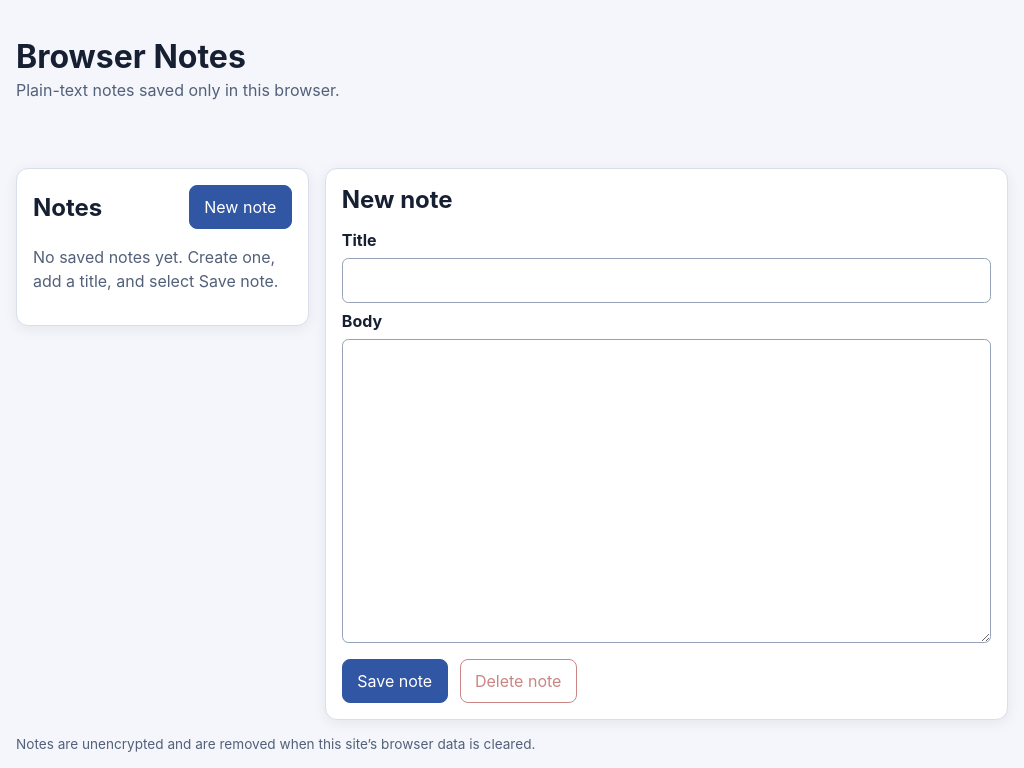
Test: Browser Notes application › rejects a blank title, focuses it, and saves an empty body only after commit
Click the button "Save note" at (395, 681), box [342,659,448,703]
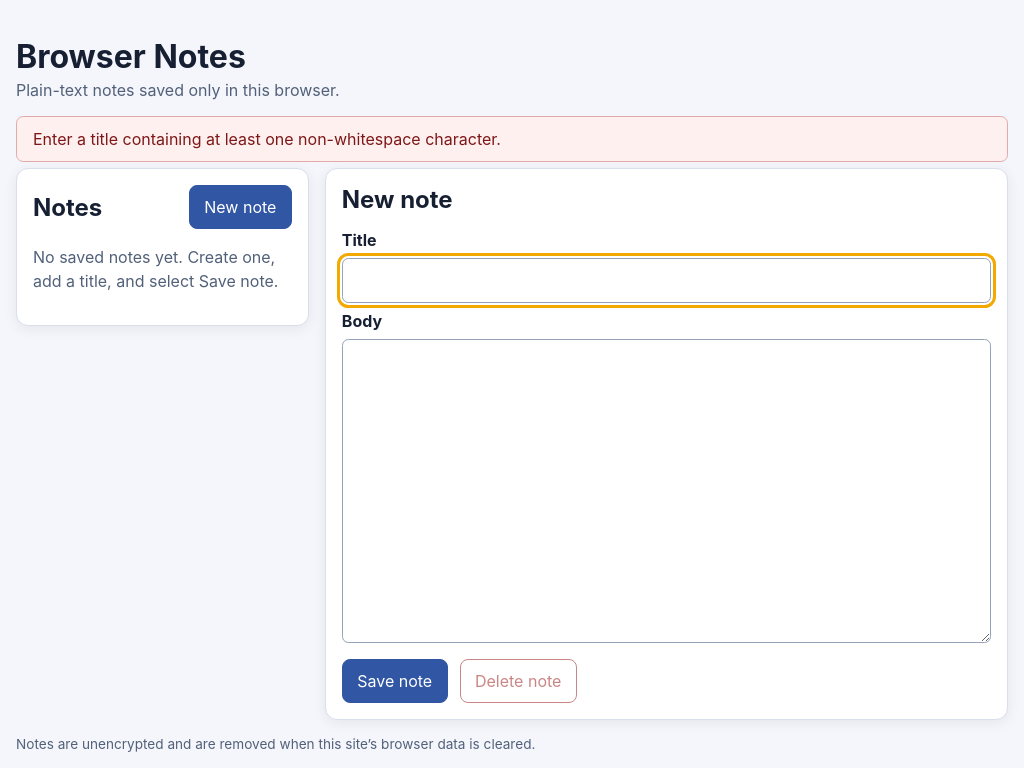
Expected: the message shows "title", [33,129,501,149]
Type "  Literal <script>alert(1)</script>  " into the field labelled "Title" at (666, 281), box [342,258,991,303]
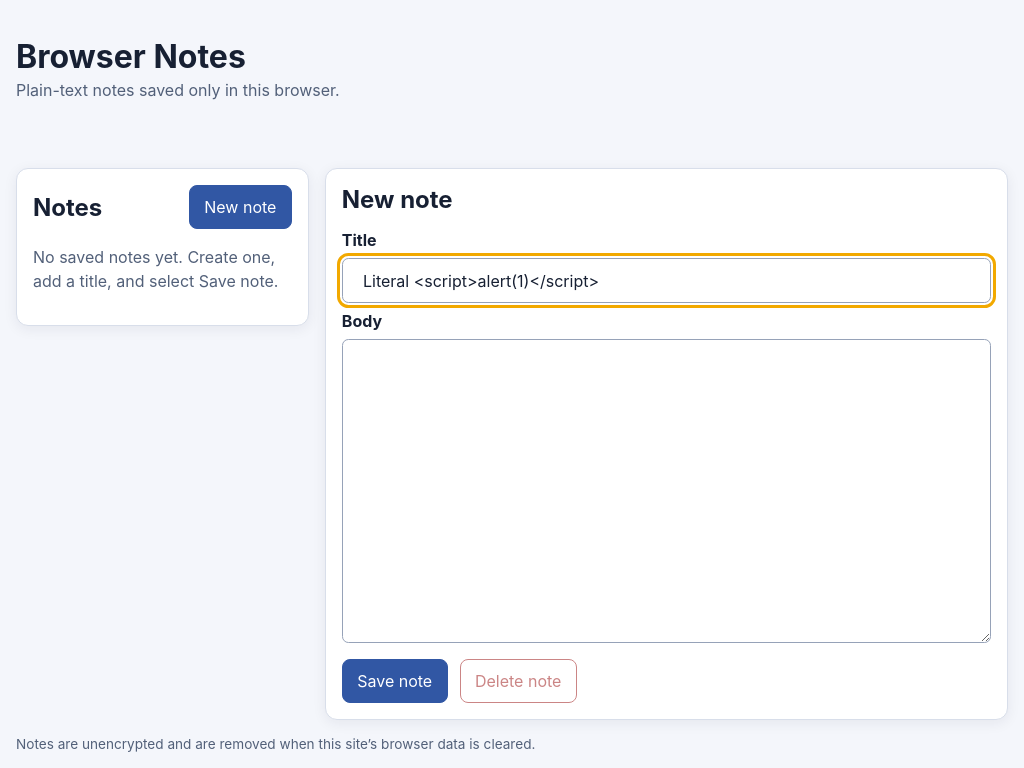
Click the button "Save note" at (395, 681), box [342,659,448,703]
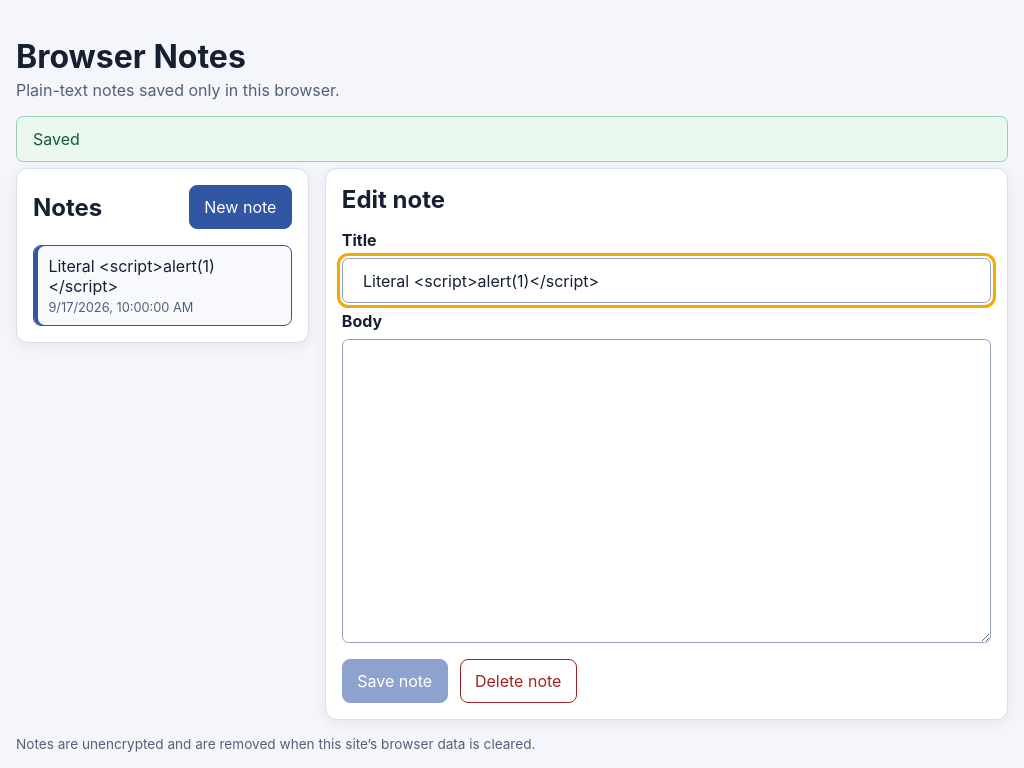
Expected: the message reads "Saved", [33,129,80,149]
Expected: the button "Literal <script>alert(1)</script> 9/17/2026, 10:00:00 AM" is shown, [33,245,292,326]
